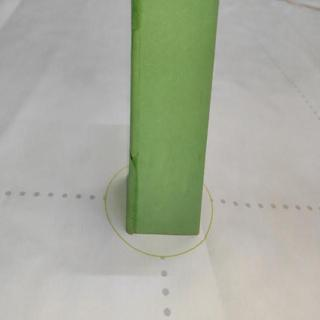greenbox: (128, 0, 207, 234)
